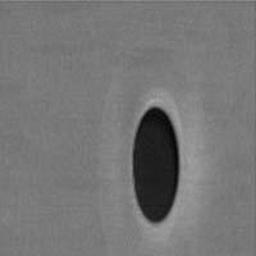Punching: (131, 108, 179, 224)
